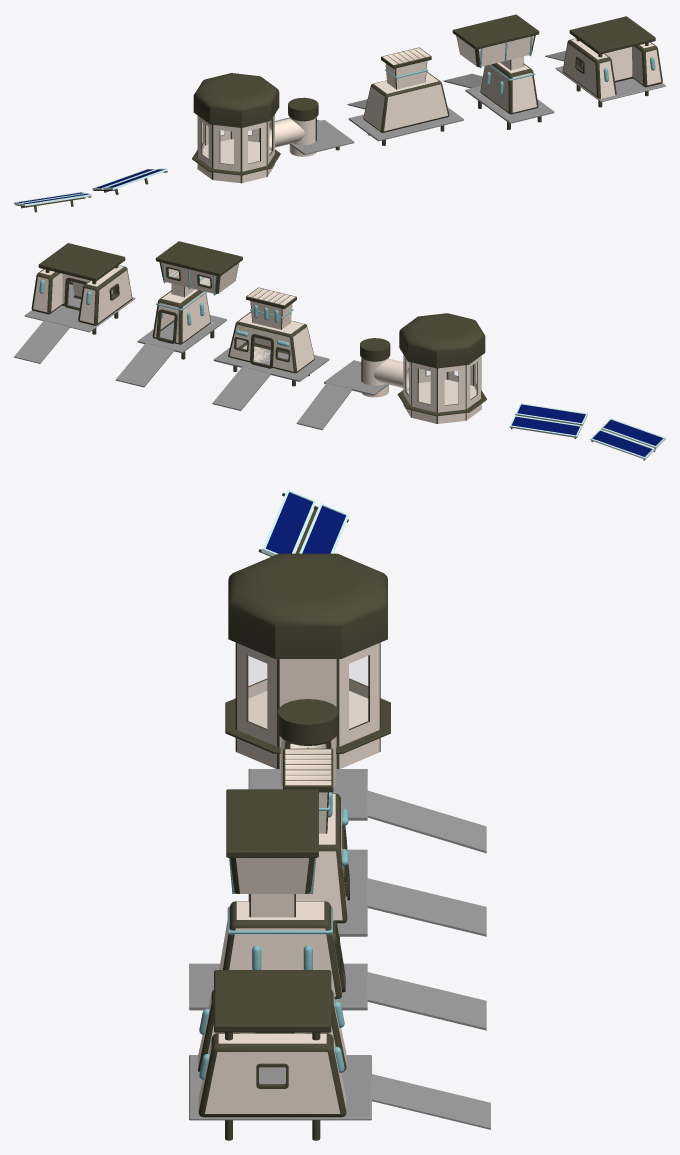
File: Model_Prop_Houses.fbx
The picture shows the model from 3 angles, top to bottom: view 1: azimuth 30°, elevation 25°; view 2: azimuth 150°, elevation 25°; view 3: azimuth 270°, elevation 25°; orthographic projection. The views are drawn at different scales.
Parts seen in each view (by area): view 1: Model_Prop_House_03, Model_Prop_House_02, Model_Prop_House_04, Model_Prop_House_01, Model_Prop_Sunpanels; view 2: Model_Prop_House_03, Model_Prop_House_04, Model_Prop_House_02, Model_Prop_House_01, Model_Prop_Sunpanels; view 3: Model_Prop_House_03, Model_Prop_House_04, Model_Prop_House_02, Model_Prop_House_01, Model_Prop_Sunpanels.
Part boxes in pixels (box(x1,y1,x2,y2)): Model_Prop_House_03: box(192, 73, 354, 183); Model_Prop_House_02: box(443, 14, 554, 129); Model_Prop_House_04: box(545, 16, 665, 107); Model_Prop_House_01: box(347, 47, 463, 145); Model_Prop_Sunpanels: box(14, 168, 167, 212); Model_Prop_House_03: box(296, 313, 486, 429); Model_Prop_House_04: box(14, 243, 135, 363); Model_Prop_House_02: box(115, 241, 242, 387); Model_Prop_House_01: box(212, 287, 329, 410); Model_Prop_Sunpanels: box(509, 403, 665, 460); Model_Prop_House_03: box(225, 553, 486, 853); Model_Prop_House_04: box(189, 970, 490, 1140); Model_Prop_House_02: box(189, 789, 486, 1030); Model_Prop_House_01: box(248, 748, 486, 940); Model_Prop_Sunpanels: box(258, 489, 349, 556).
Size of the model in its own units: 3596 by 510 by 762.
